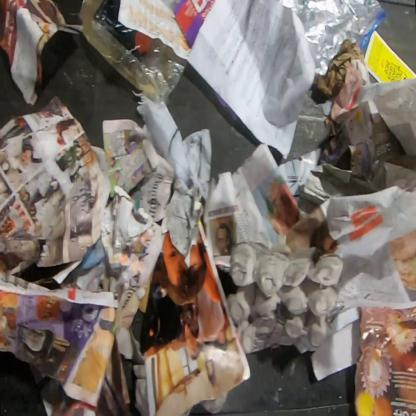cardboard: (225, 241, 344, 354)
soft_plastic: (77, 0, 188, 109), (276, 0, 388, 78)
